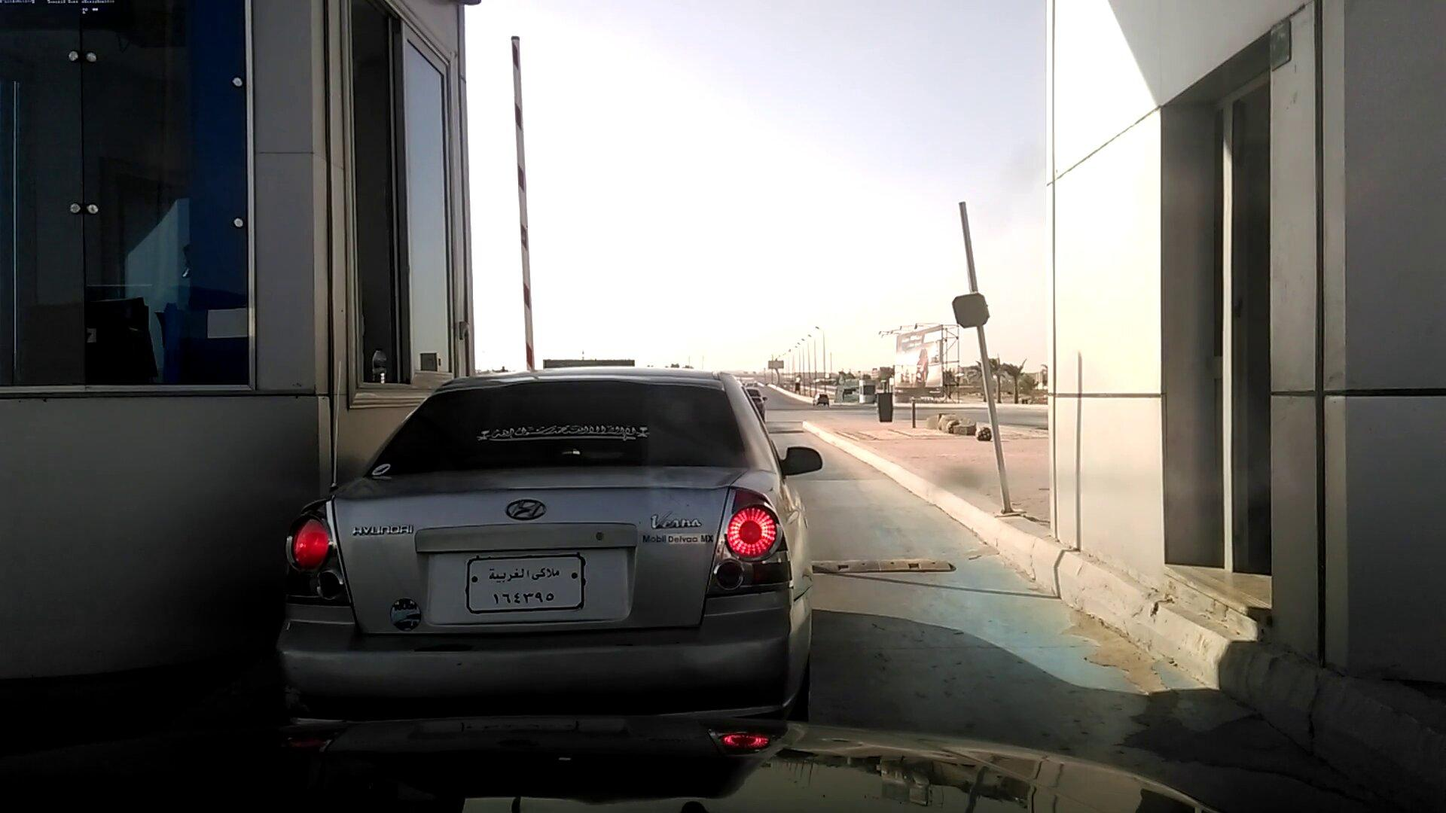Bump: (821, 557, 956, 580)
